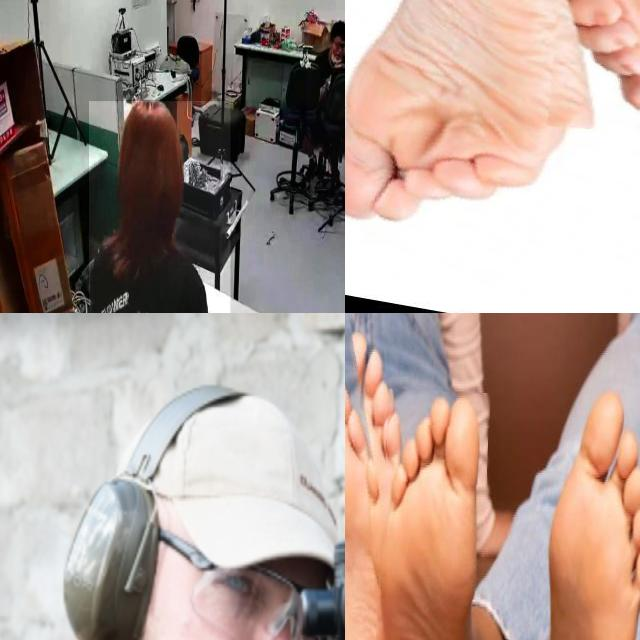Barefoots: (345, 0, 596, 232), (378, 366, 494, 640), (541, 374, 640, 640), (345, 326, 410, 640), (547, 390, 556, 400)
Ear-protection: (61, 377, 345, 640)
head_nohelmet: (117, 94, 180, 153), (330, 20, 345, 35)
person: (89, 101, 231, 313), (306, 10, 345, 184)
